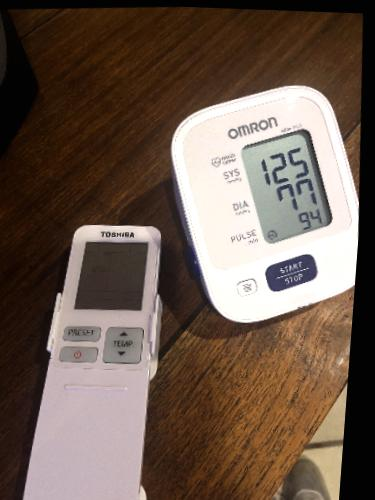bpm: (236, 127, 336, 247)
